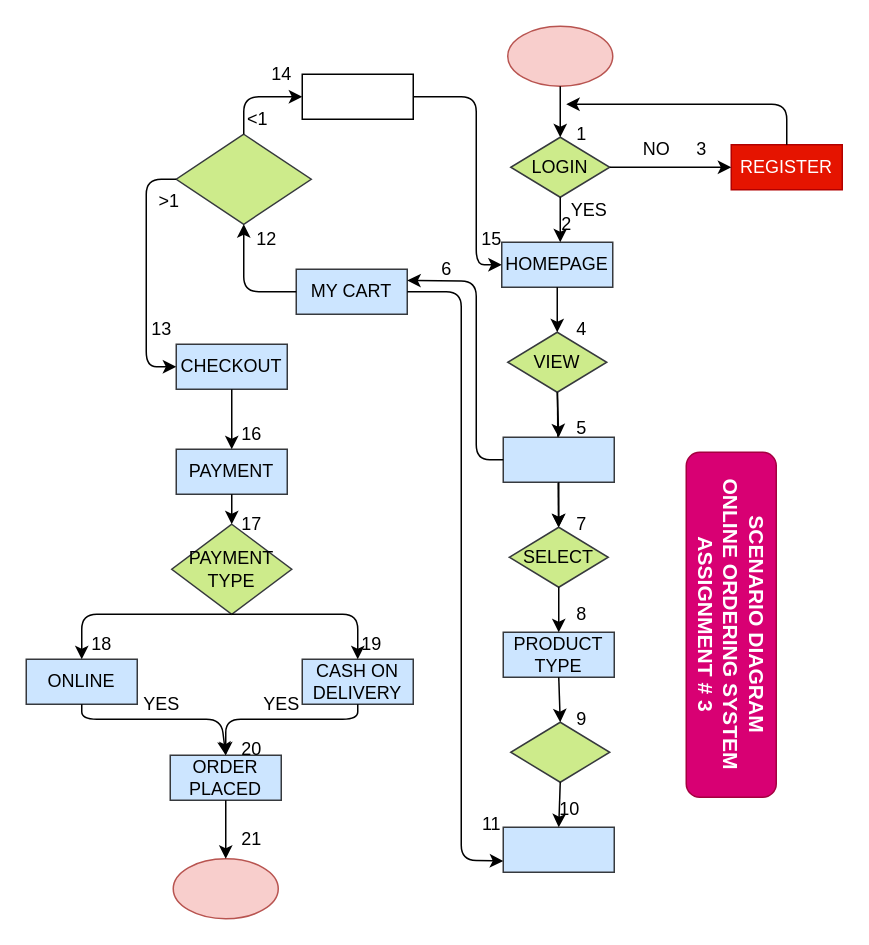
Some shapes in this 869 by 945 pixel diagram are drawn without their labels. Each missing label, with the centre of its shape:
"ADD" goes at [559,751].
"CART" goes at [558,849].
"CONTINUE SHOPPING" goes at [357,96].
"END" goes at [225,888].
"MENU" goes at [558,459].
"MY SELECTION" goes at [243,178].
"START" goes at [559,55].
